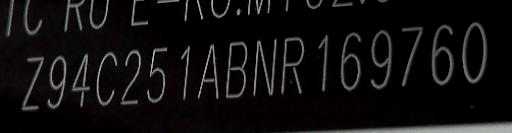letter: (460, 15, 490, 88), (397, 24, 427, 89), (144, 42, 172, 107), (430, 22, 456, 87), (279, 33, 305, 98), (338, 31, 364, 94), (252, 38, 278, 99), (118, 47, 144, 108), (368, 27, 392, 92), (94, 49, 120, 108), (20, 54, 46, 113), (224, 38, 248, 99), (196, 41, 220, 102), (70, 51, 94, 110), (312, 32, 332, 97), (46, 53, 68, 110), (175, 43, 191, 102)
